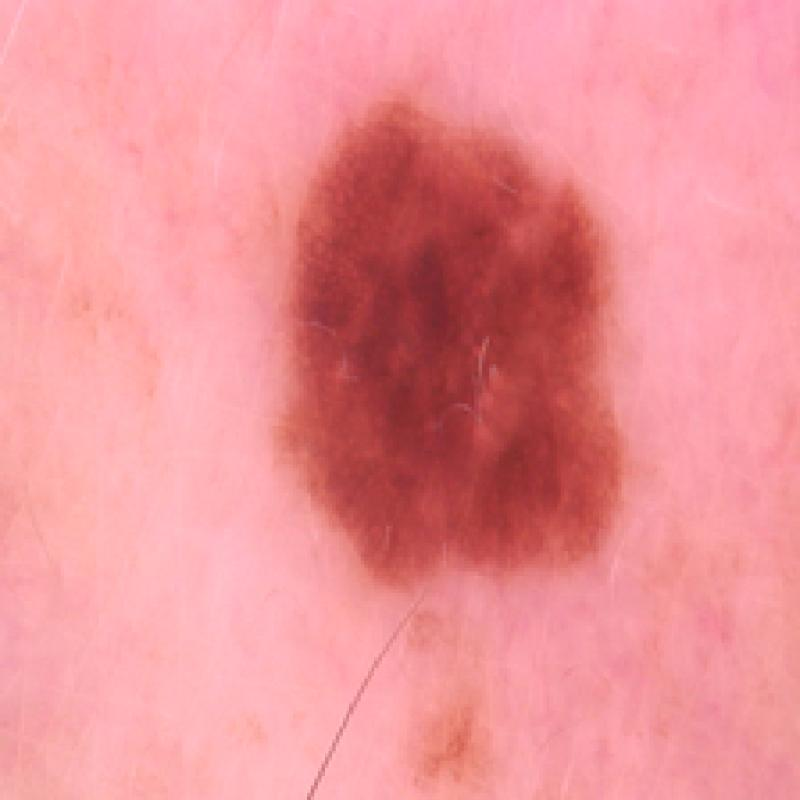benign: (263, 90, 634, 609)
